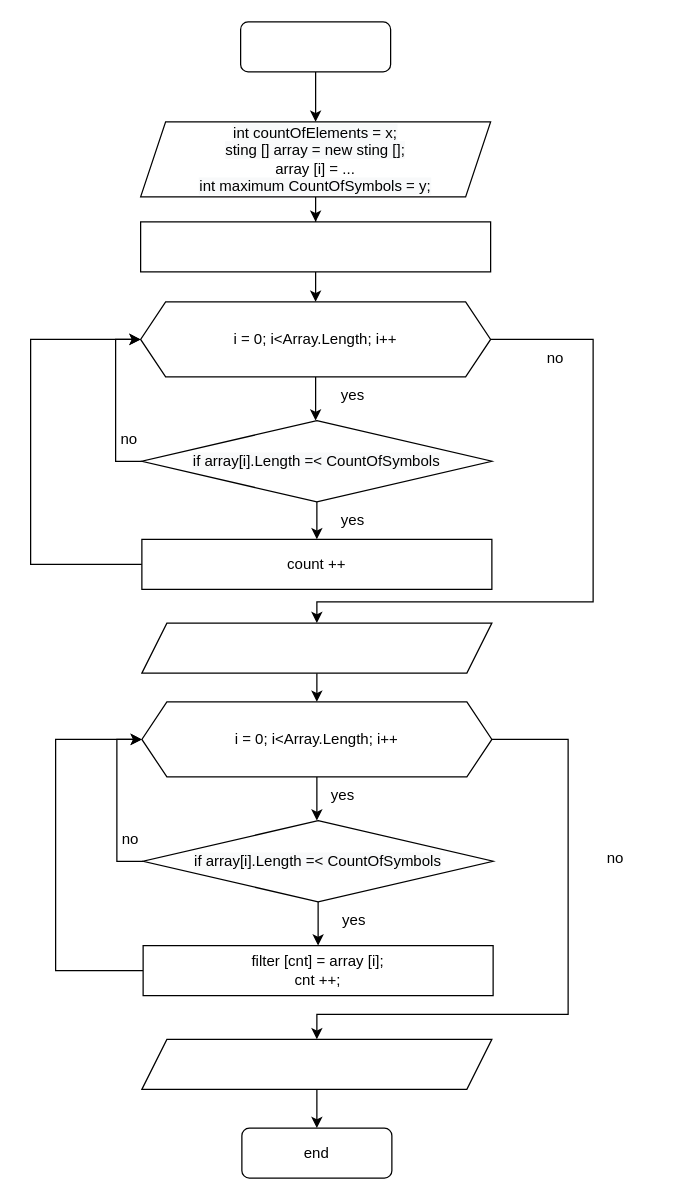
This 675x1200 diagram has some shape labels left out. The shapes that lost their labels are listed below. From the top down, each one's box as (x1, y1, x2, y2) in pixels, then its label:
(239, 21, 391, 72): START
(139, 221, 491, 272): int count = 0;
(141, 622, 492, 673): int cnt = 0; string [] filter = new string [count]
(141, 1038, 492, 1089): return Filter;
